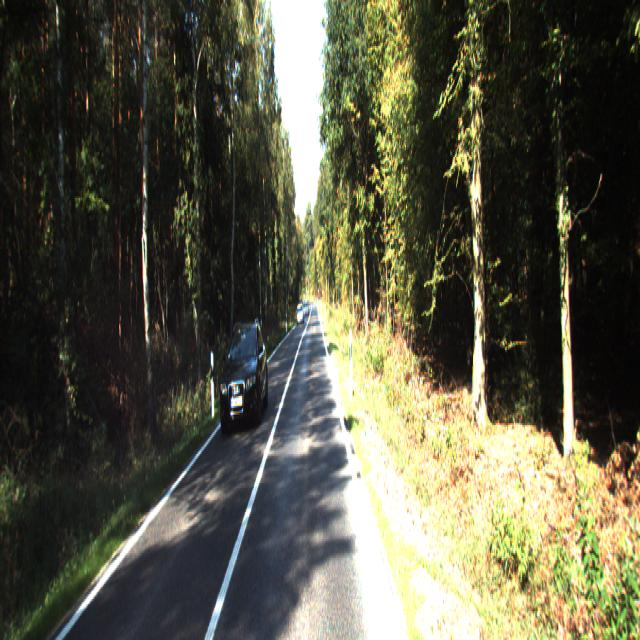Car: (219, 318, 269, 434)
